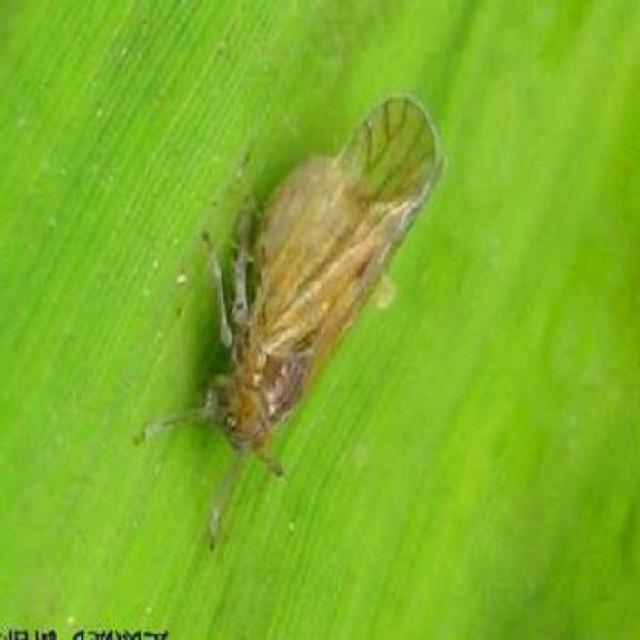brown-planthopper: (169, 88, 449, 484)
